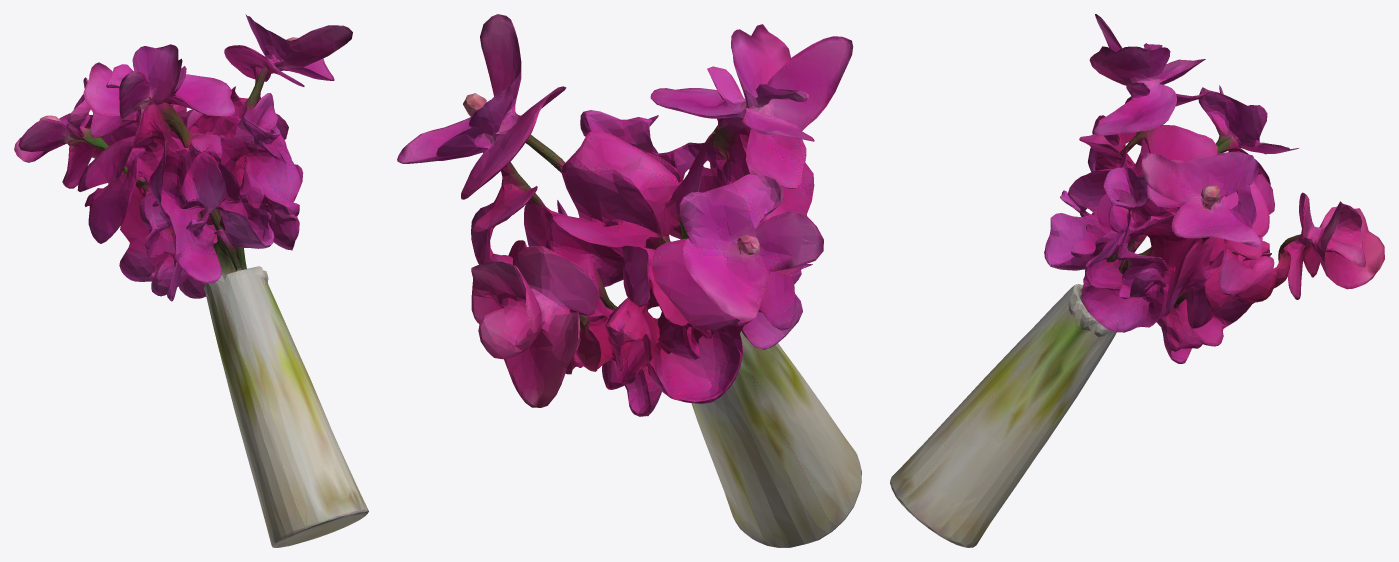
Rendered from glass_vase_with_pink_flowers_000.glb.
3 views of the same model, side by side, from view 1: azimuth 30°, elevation 25°; view 2: azimuth 150°, elevation 25°; view 3: azimuth 270°, elevation 25° (orthographic). The views are drawn at different scales.
Visible parts, largest first — view 1: glass_vase_with_pink_flowers_000.obj; view 2: glass_vase_with_pink_flowers_000.obj; view 3: glass_vase_with_pink_flowers_000.obj.
Part boxes in pixels (x1,y1,x2,y2): glass_vase_with_pink_flowers_000.obj: (14,14,368,547); glass_vase_with_pink_flowers_000.obj: (397,14,861,547); glass_vase_with_pink_flowers_000.obj: (890,14,1384,547).
Size of the model in its own units: 0.173 by 0.2446 by 0.2335.
Materials: 1 (1 with a texture image).
